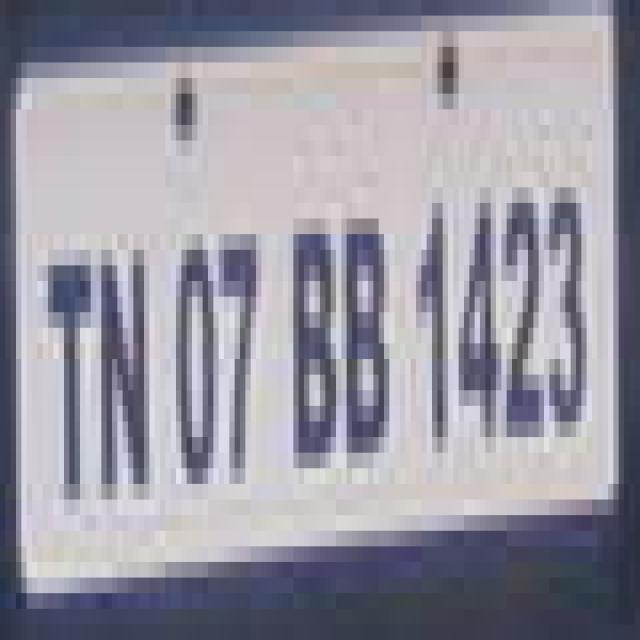plate: (0, 31, 613, 624)
